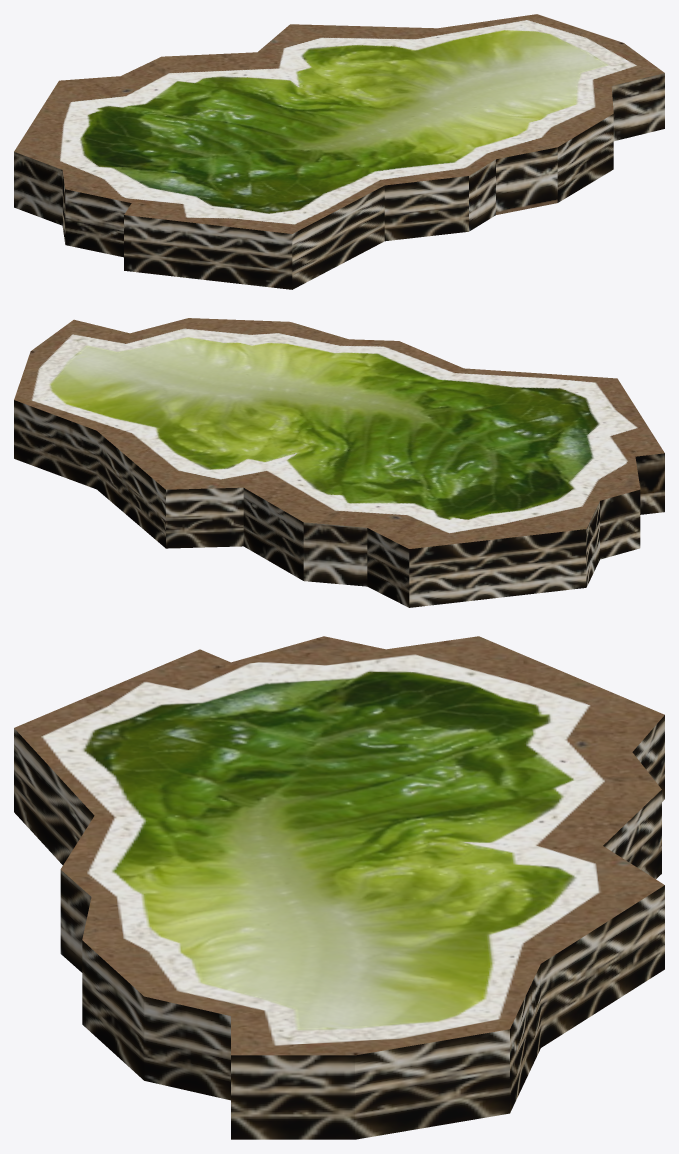
File: LettuceLeaf.obj
3 views of the same model, one above another, from view 1: azimuth 30°, elevation 25°; view 2: azimuth 150°, elevation 25°; view 3: azimuth 270°, elevation 25° (orthographic). The views are drawn at different scales.
Parts seen in each view (by area): view 1: Plane; view 2: Plane; view 3: Plane.
Part boxes in pixels (x1,y1,x2,y2): Plane: [14, 14, 664, 289]; Plane: [14, 318, 664, 607]; Plane: [14, 636, 664, 1139].
Size of the model in its own units: 3.2 by 0.3 by 2.1.
